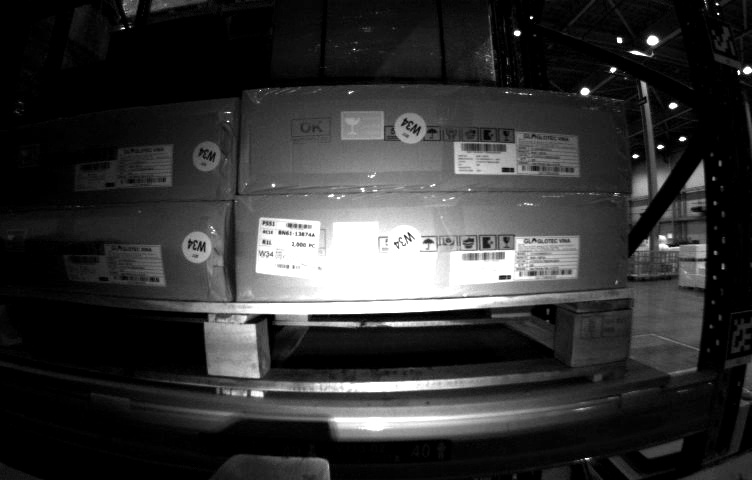True Barcode: (259, 215, 318, 286)
